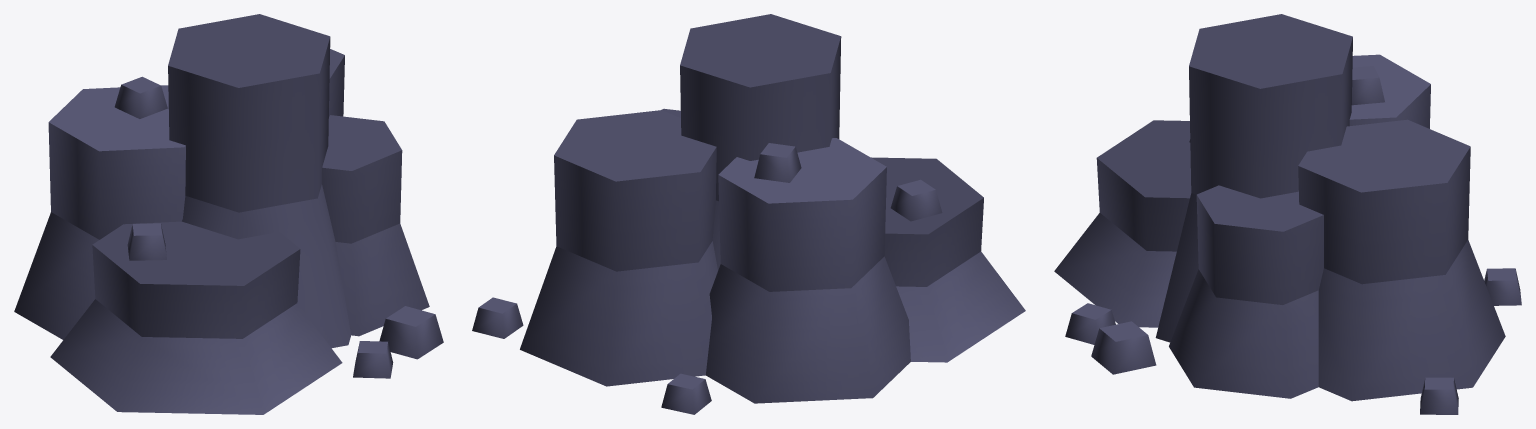
Rendered from rocks-c.fbx.
3 views of the same model, side by side, from view 1: azimuth 30°, elevation 25°; view 2: azimuth 150°, elevation 25°; view 3: azimuth 270°, elevation 25° (orthographic).
Parts seen in each view (by area): view 1: rocks-c; view 2: rocks-c; view 3: rocks-c.
Part boxes in pixels (bbox=[...]): rocks-c: bbox=[14, 14, 443, 414]; rocks-c: bbox=[472, 14, 1025, 414]; rocks-c: bbox=[1054, 14, 1521, 414].
Bounding box in the file's own units: 364 × 230 × 367.
